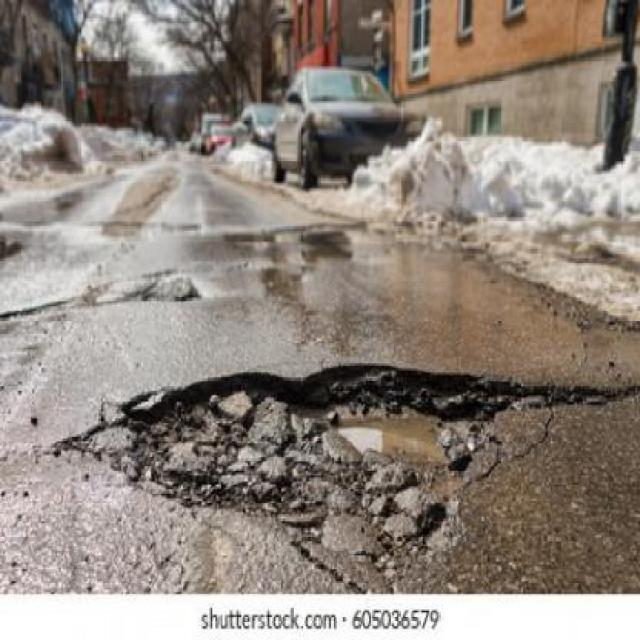pothole: (91, 361, 545, 572)
